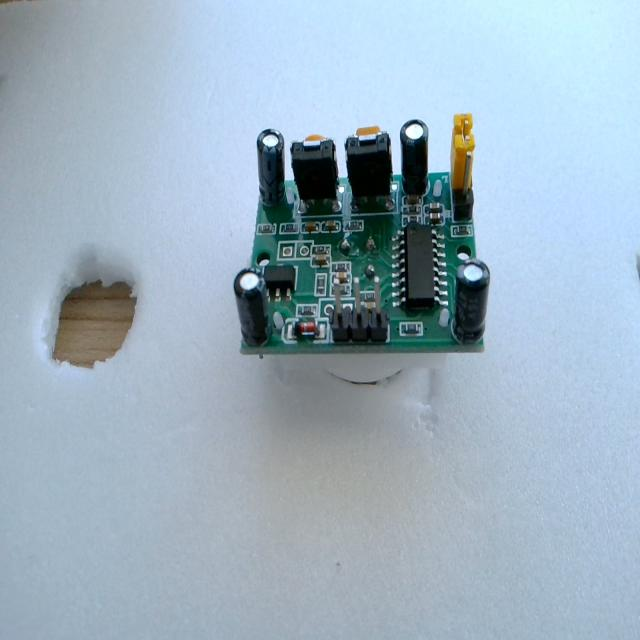Electrolytic capacitor: (454, 258, 491, 344), (233, 267, 271, 347), (399, 118, 430, 197), (256, 128, 286, 206)
IC: (394, 222, 448, 311)
